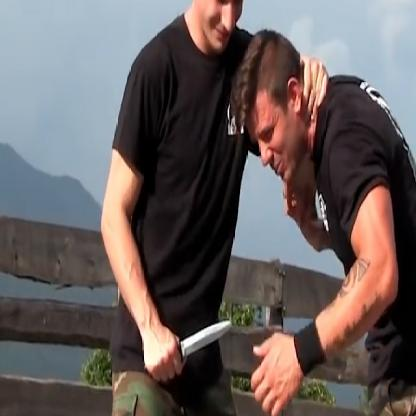knife: (141, 306, 238, 386)
